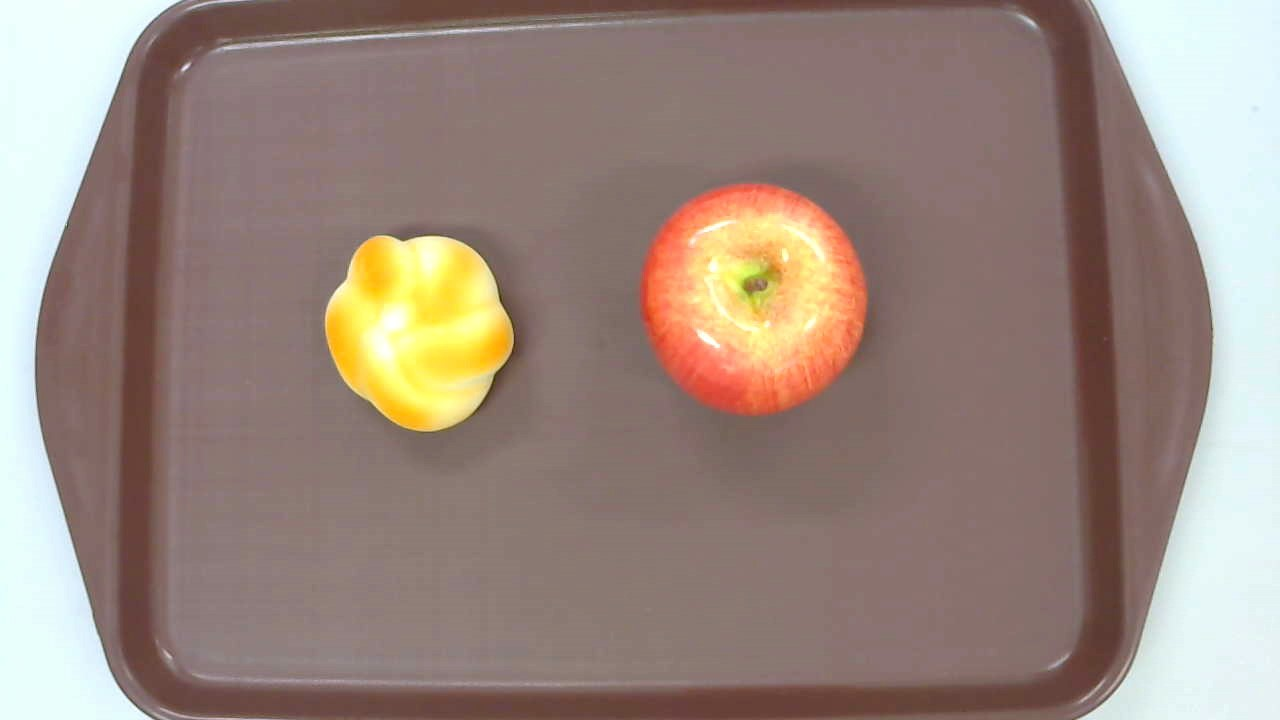red apple: (640, 182, 867, 419)
twist bread: (324, 233, 515, 432)
